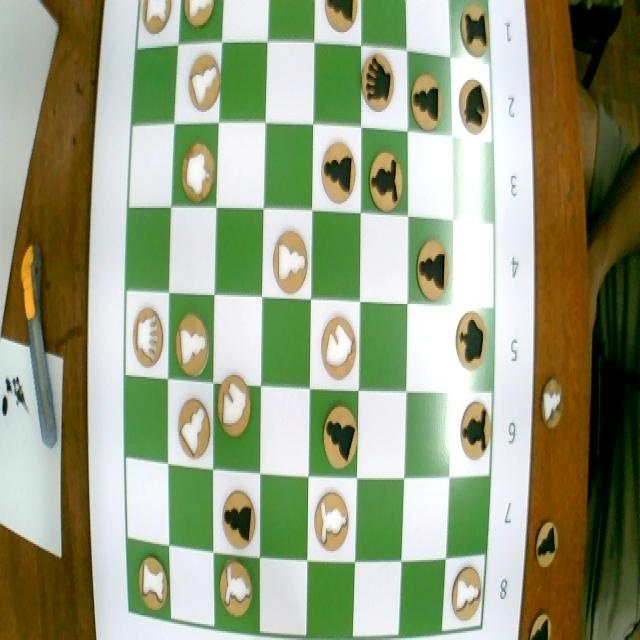chess-pieces: (270, 221, 314, 296), (318, 312, 360, 386), (318, 140, 361, 210), (453, 306, 494, 378), (365, 150, 405, 221), (214, 556, 256, 623), (215, 368, 254, 440), (408, 70, 448, 138), (360, 46, 398, 117), (176, 392, 212, 466), (459, 396, 494, 472), (180, 140, 219, 207), (448, 557, 482, 632), (414, 228, 452, 294), (175, 318, 211, 386), (323, 407, 360, 472), (220, 485, 258, 547), (188, 54, 225, 116), (134, 554, 171, 616), (314, 492, 352, 552), (454, 1, 489, 60), (135, 0, 175, 50), (135, 307, 165, 370), (459, 75, 491, 132), (312, 0, 361, 37), (182, 0, 218, 41)
